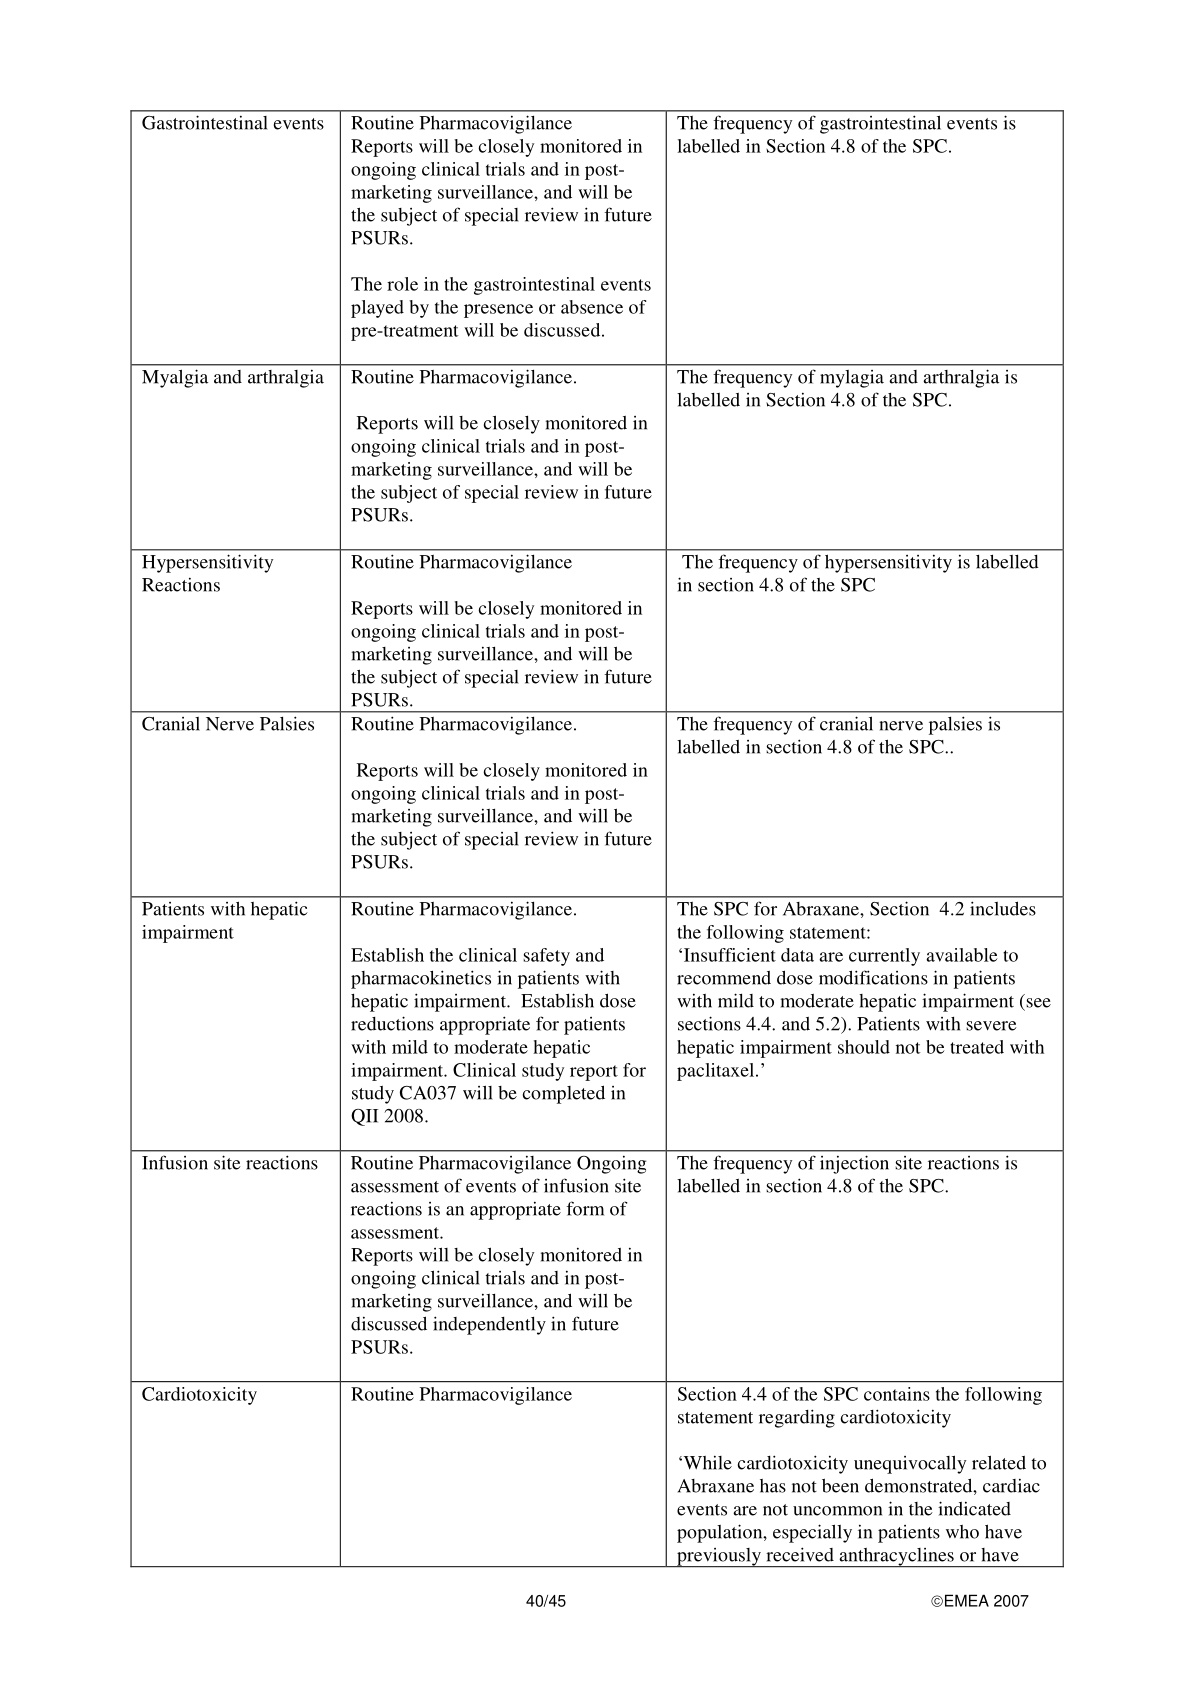full_lined: (128, 110, 1065, 1568)
